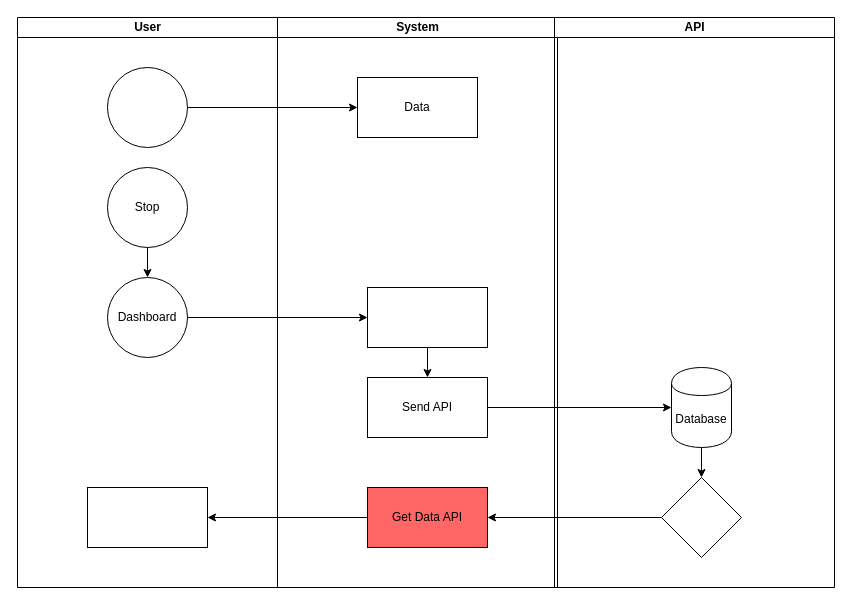
This 852x605 diagram has some shape labels left out. Here are the shapes that lost their labels. From the top down, the centre of each, then its label:
At point (147, 107): "Record".
At point (427, 317): "POST Data".
At point (147, 517): "Show Dashboard".
At point (701, 517): "Summary".
